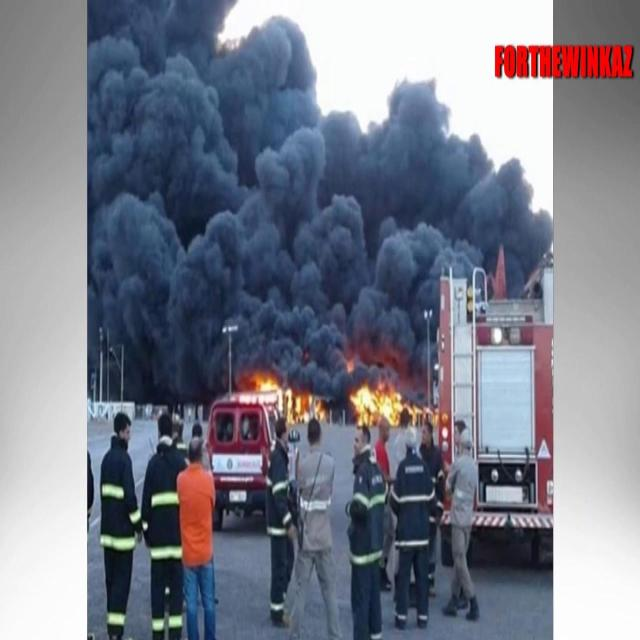Fire: (352, 385, 428, 431), (260, 382, 326, 421)
